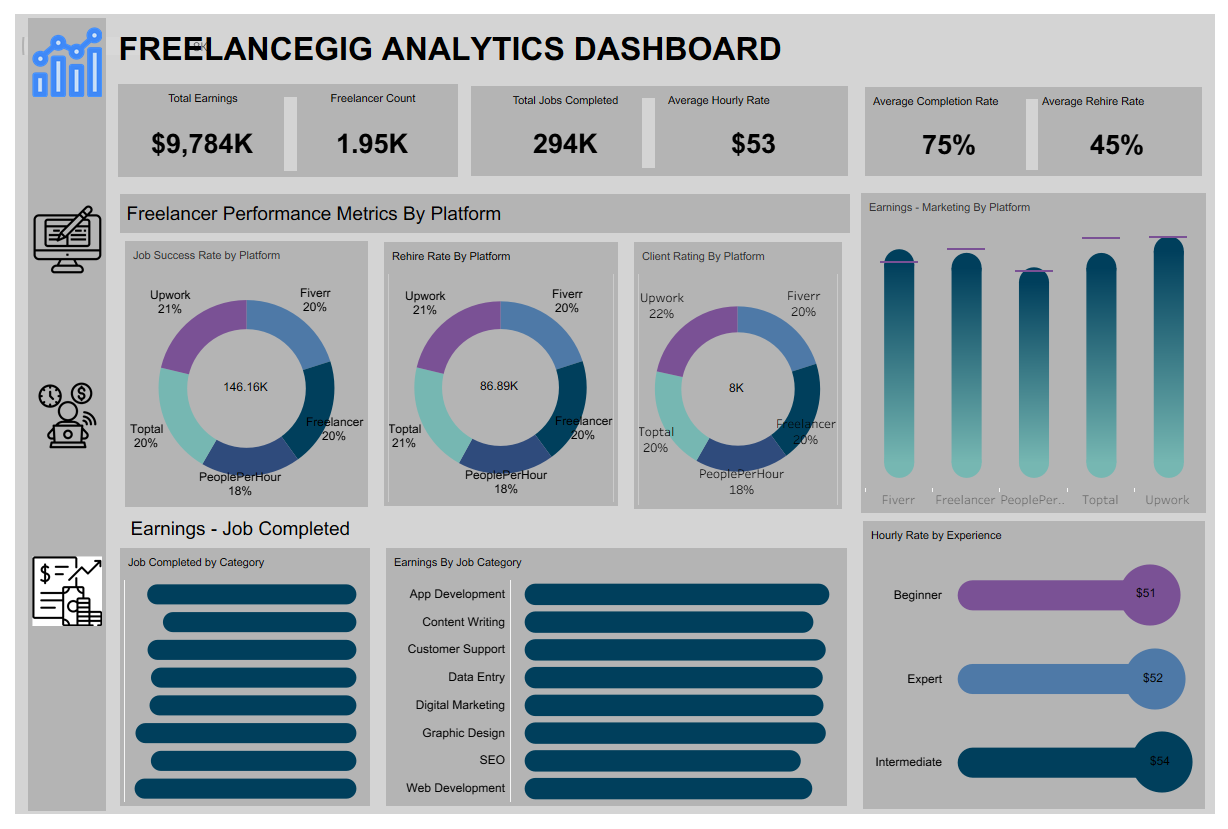

What the dashboard file says about the page in this screenshot:
{"tool":"tableau","page":{"name":"Dashboard 1","canvas":[1200,800],"ordinal":0},"visuals":[{"type":"legend","title":"Cl RT By Platform","param":"[federated.1u0f6vr02nvmxb1bcewny1a4m4q7].[sum:Client_Rating:qk]","box":[0,0,1200,51]},{"type":"image","param":"Image/statistics_7945790.png","box":[13,4,78,89]},{"type":"text","box":[97,6,1095,58]},{"type":"worksheet","title":"KPI TE","mark":"Automatic","box":[103,70,170,93]},{"type":"worksheet","title":"KPI IDC","mark":"Automatic","box":[273,70,170,93]},{"type":"worksheet","title":"KPI TJC","mark":"Automatic","box":[456,72,189,90]},{"type":"worksheet","title":"KPI AHR","mark":"Automatic","box":[645,72,188,90]},{"type":"worksheet","title":"KPI ACR","mark":"Automatic","box":[850,73,169,89]},{"type":"worksheet","title":"KPI ARhR","mark":"Automatic","box":[1019,73,168,89]},{"type":"blank","box":[13,93,78,88]},{"type":"worksheet","title":"E/M By Platform","mark":"Line","rows":["Marketing_Spend"],"cols":["Platform"],"box":[846,179,345,320]},{"type":"text","box":[105,180,730,39]},{"type":"image","param":"Image/content-writing.png","box":[13,181,78,88]},{"type":"worksheet","title":"JSR By Platform","mark":"Pie","cols":["Calculation_413205299803897869","Calculation_413205299803897869"],"box":[110,227,243,266]},{"type":"worksheet","title":"RHR by Platform","mark":"Pie","cols":["Calculation_413205299812270097","Calculation_413205299812270097"],"box":[369,228,234,264]},{"type":"worksheet","title":"Cl RT By Platform","mark":"Pie","cols":["Calculation_413205299810074639","Calculation_413205299810074639"],"box":[619,228,208,267]},{"type":"blank","box":[13,269,78,88]},{"type":"image","param":"Image/working-from-home_18960198.png","box":[13,357,78,88]},{"type":"blank","box":[13,445,78,88]},{"type":"text","box":[109,500,718,30]},{"type":"worksheet","title":"HR V Exp","mark":"Line","rows":["Experience_Level"],"cols":["Hourly_Rate"],"box":[848,507,342,288]},{"type":"image","param":"Image/863cd1d1-37e6-4e4b-81f0-230040b4d47e.jpg","box":[13,533,78,88]},{"type":"worksheet","title":"JC By Job Category (But)","mark":"Line","rows":["Job_Category"],"box":[105,534,250,258]},{"type":"worksheet","title":"Earnings v Job category (But)","mark":"Line","rows":["Job_Category"],"box":[371,534,461,258]},{"type":"blank","box":[13,621,78,88]},{"type":"blank","box":[13,709,78,88]}]}

Visuals, with their boxes in screenshot pixels (x1, y1, x2, y2), scaled from the page's 1200x800 canvas onto the 1228x829 screenshot:
"Cl RT By Platform" legend: locate(0, 0, 1227, 53)
image: locate(13, 4, 93, 96)
text: locate(99, 6, 1220, 66)
"KPI TE" worksheet: locate(105, 73, 279, 169)
"KPI IDC" worksheet: locate(279, 73, 453, 169)
"KPI TJC" worksheet: locate(467, 75, 660, 168)
"KPI AHR" worksheet: locate(660, 75, 852, 168)
"KPI ACR" worksheet: locate(870, 76, 1043, 168)
"KPI ARhR" worksheet: locate(1043, 76, 1215, 168)
blank: locate(13, 96, 93, 188)
"E/M By Platform" worksheet (Line marks): locate(866, 185, 1219, 517)
text: locate(107, 187, 854, 227)
image: locate(13, 188, 93, 279)
"JSR By Platform" worksheet (Pie marks): locate(113, 235, 361, 511)
"RHR by Platform" worksheet (Pie marks): locate(378, 236, 617, 510)
"Cl RT By Platform" worksheet (Pie marks): locate(633, 236, 846, 513)
blank: locate(13, 279, 93, 370)
image: locate(13, 370, 93, 461)
blank: locate(13, 461, 93, 552)
text: locate(112, 518, 846, 549)
"HR V Exp" worksheet (Line marks): locate(868, 525, 1218, 824)
image: locate(13, 552, 93, 644)
"JC By Job Category (But)" worksheet (Line marks): locate(107, 553, 363, 821)
"Earnings v Job category (But)" worksheet (Line marks): locate(380, 553, 851, 821)
blank: locate(13, 644, 93, 735)
blank: locate(13, 735, 93, 826)
